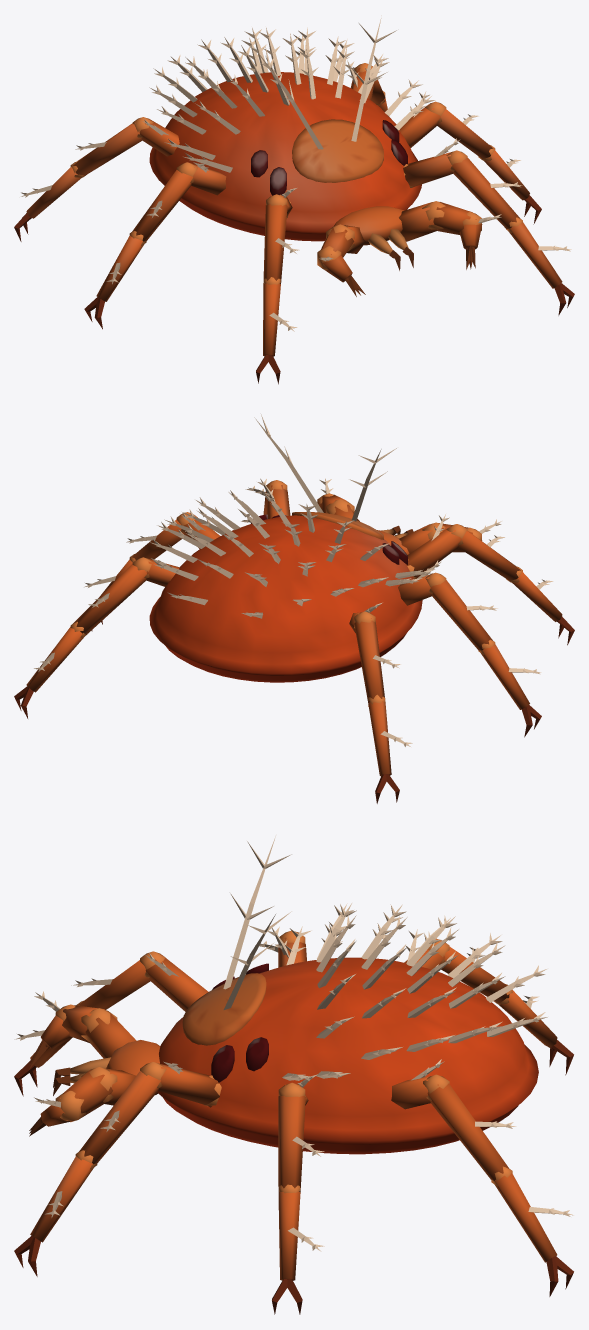
File: ChiggerMite.fbx
3 views of the same model, one above another, from view 1: azimuth 30°, elevation 25°; view 2: azimuth 150°, elevation 25°; view 3: azimuth 270°, elevation 25° (orthographic). The views are drawn at different scales.
Visible parts, largest first — view 1: ChiggerMite; view 2: ChiggerMite; view 3: ChiggerMite.
Boxes of the visible parts, bbox=[...] form: ChiggerMite: bbox=[14, 15, 574, 384]; ChiggerMite: bbox=[14, 414, 574, 803]; ChiggerMite: bbox=[14, 836, 573, 1314].
Bounding box in the file's own units: 0.7974 × 0.4216 × 0.6907.
